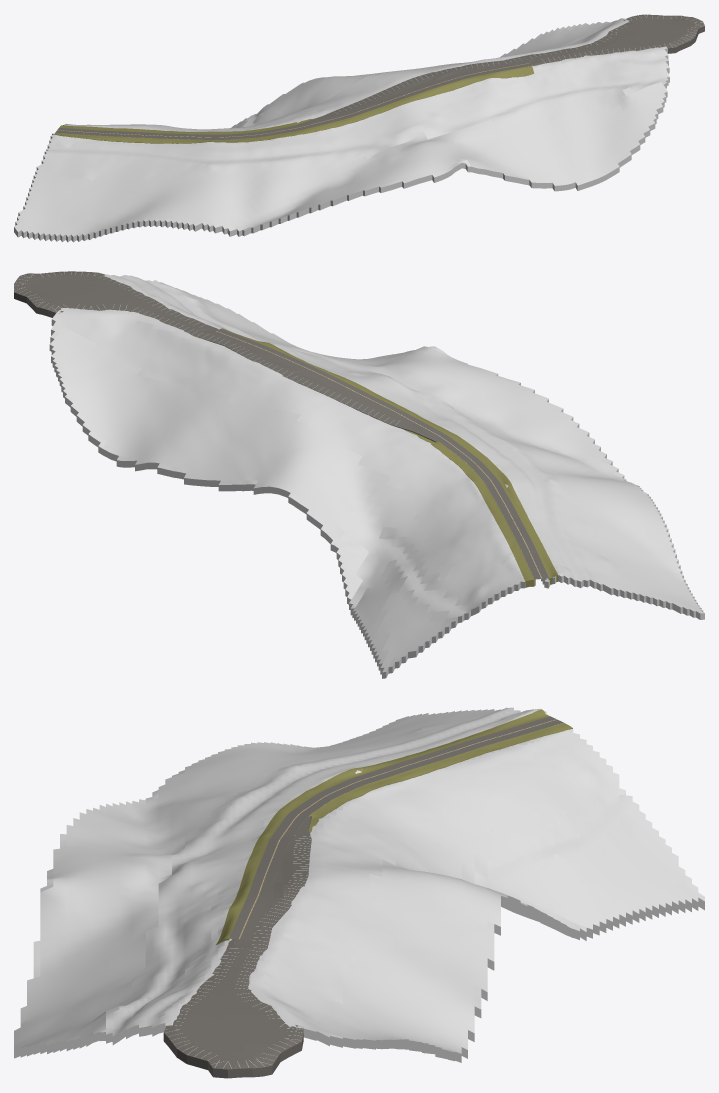
Rendered from conz_210.glb.
The picture shows the model from 3 angles, top to bottom: view 1: azimuth 30°, elevation 25°; view 2: azimuth 150°, elevation 25°; view 3: azimuth 270°, elevation 25°; orthographic projection. The views are drawn at different scales.
Visible parts, largest first — view 1: terrain210, lot210_10, road210, verge210R, verge210L; view 2: terrain210, lot210_10, road210, verge210R, verge210L; view 3: terrain210, lot210_10, road210, verge210R, verge210L, paint_stalls210_10.
Part boxes in pixels (x1,y1,x2,y2): terrain210: (14, 18, 669, 242); lot210_10: (297, 14, 704, 124); road210: (55, 61, 531, 139); verge210R: (52, 66, 534, 143); verge210L: (59, 116, 321, 134); terrain210: (49, 274, 704, 678); lot210_10: (14, 271, 437, 442); road210: (212, 329, 548, 579); verge210R: (221, 328, 558, 584); verge210L: (299, 369, 534, 587); terrain210: (14, 707, 704, 1062); lot210_10: (163, 816, 311, 1078); road210: (229, 716, 563, 939); verge210R: (216, 709, 549, 944); verge210L: (275, 723, 572, 875); paint_stalls210_10: (165, 835, 310, 1068).
Bounding box in the file's own units: 361 × 67.99 × 210.
